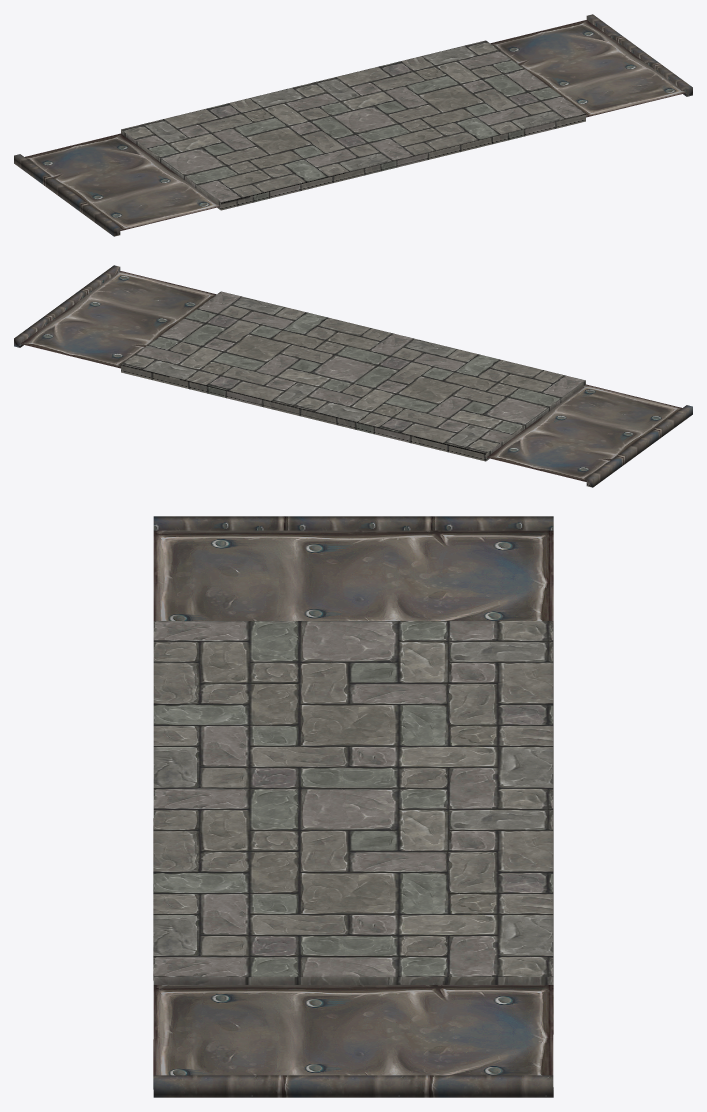
File: Path1.fbx
3 views of the same model, one above another, from view 1: azimuth 30°, elevation 25°; view 2: azimuth 150°, elevation 25°; view 3: azimuth 270°, elevation 25° (orthographic). The views are drawn at different scales.
Visible parts, largest first — view 1: Cube_006; view 2: Cube_006; view 3: Cube_006.
Boxes of the visible parts, bbox=[...] form: Cube_006: bbox=[14, 14, 692, 236]; Cube_006: bbox=[14, 265, 692, 487]; Cube_006: bbox=[153, 516, 553, 1097].
Bounding box in the file's own units: 9.36 × 0.1229 × 2.8.
